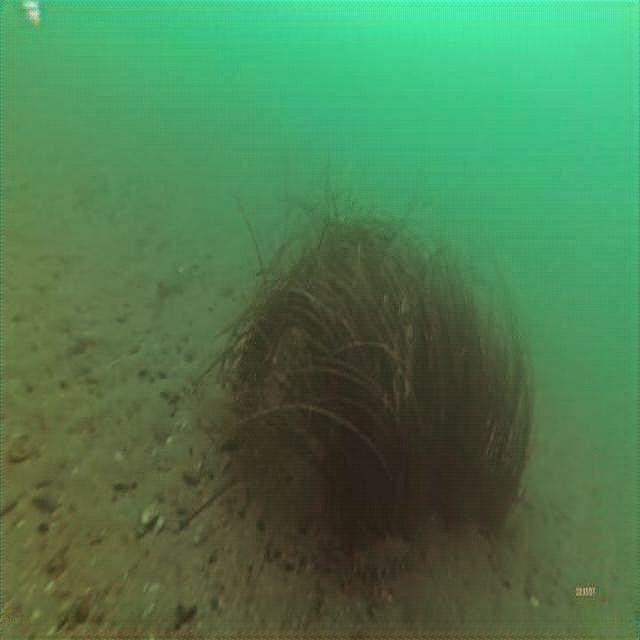holothurian: (351, 531, 416, 586)
